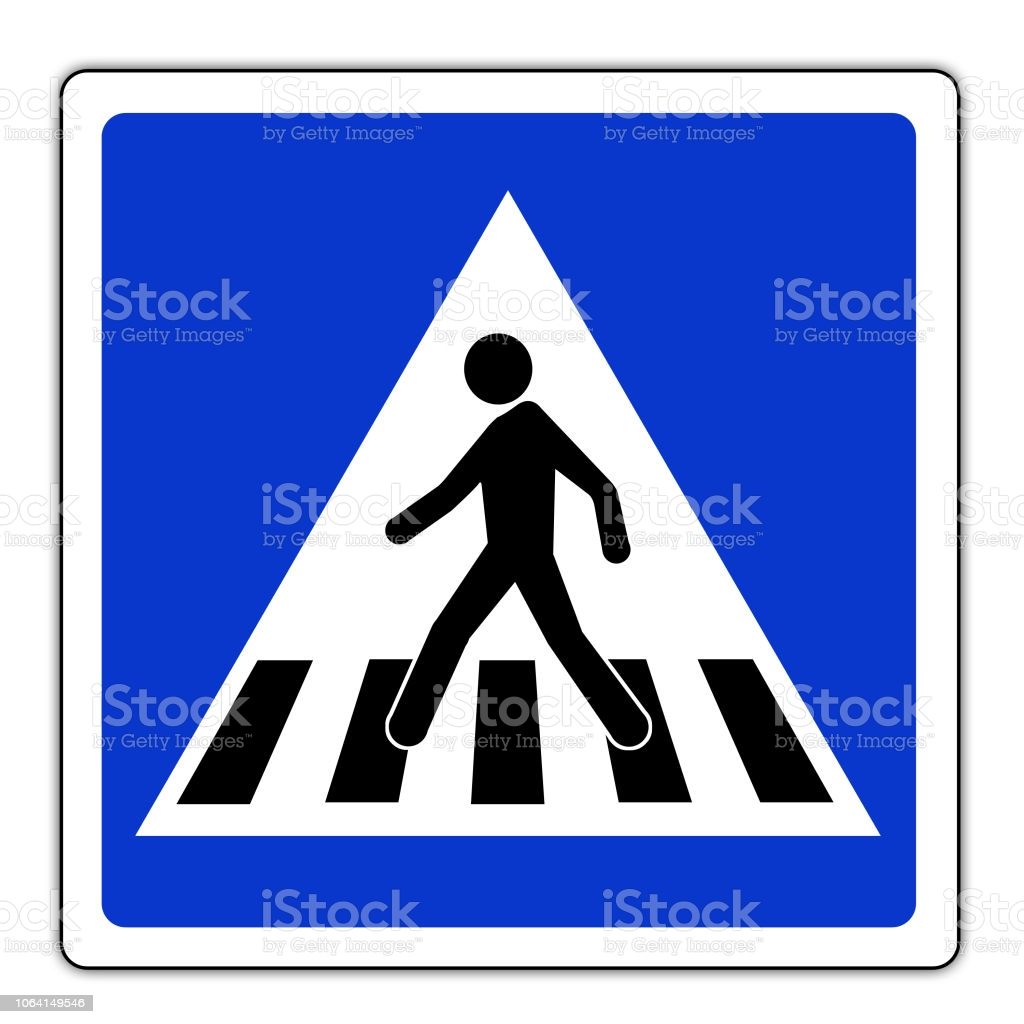pedestrian: (42, 72, 956, 961)
